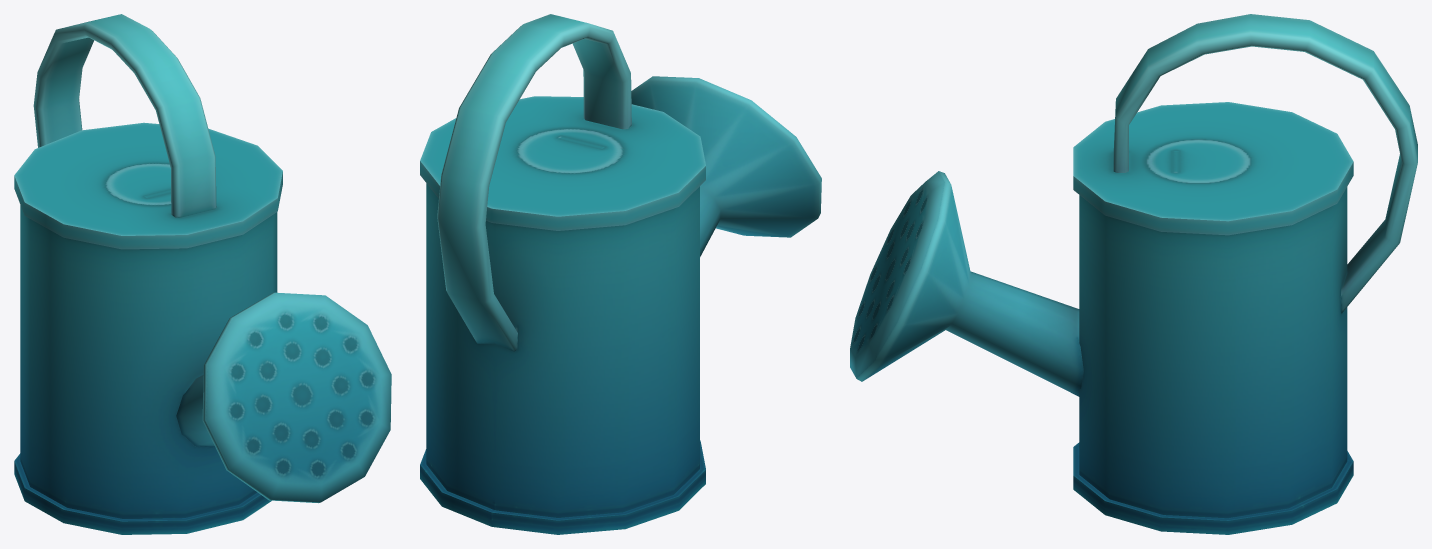
Rendered from ToolWaterCan01.FBX.
3 renders of one model, left to right at view 1: azimuth 30°, elevation 25°; view 2: azimuth 150°, elevation 25°; view 3: azimuth 270°, elevation 25°, orthographic. The views are drawn at different scales.
Parts seen in each view (by area): view 1: ToolWaterCan01; view 2: ToolWaterCan01; view 3: ToolWaterCan01.
Part boxes in pixels (left/top/right/bottom): ToolWaterCan01: left=14, top=14, right=391, bottom=534; ToolWaterCan01: left=420, top=14, right=821, bottom=534; ToolWaterCan01: left=850, top=14, right=1417, bottom=534.
Size of what is drawn, in the model's own units: 0.2283 by 0.4044 by 0.4595.
